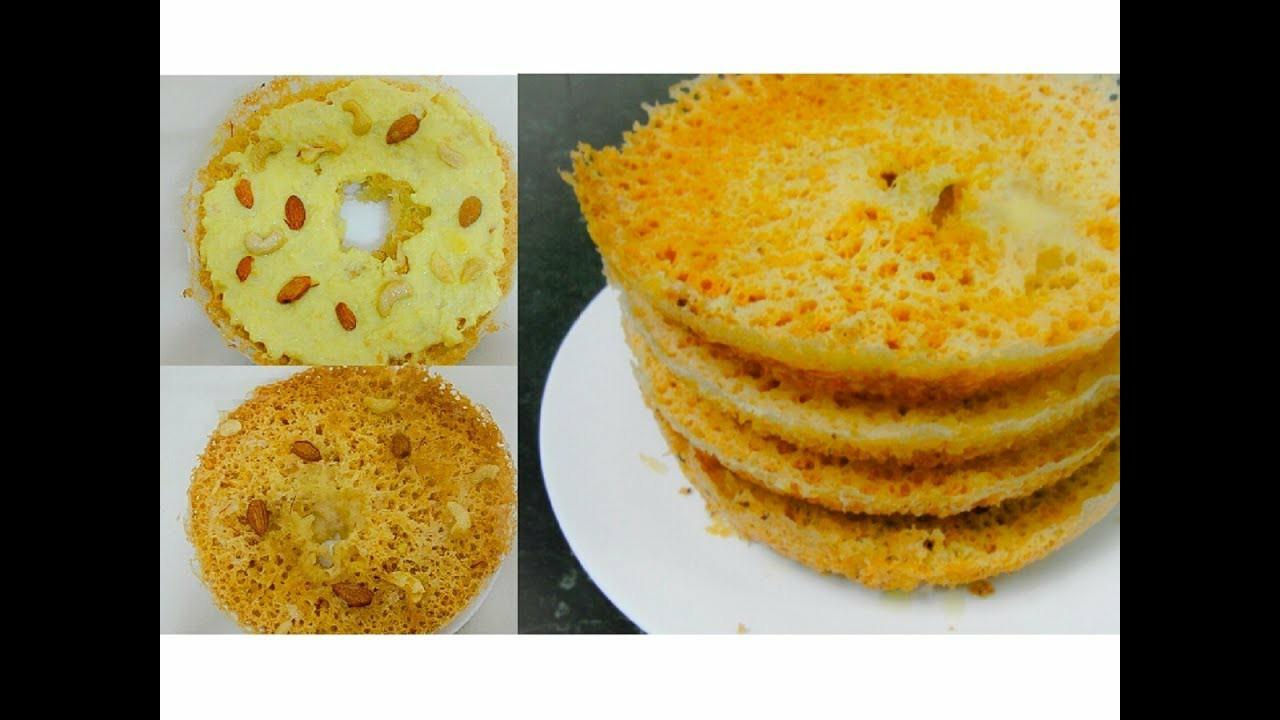Ghevar: (558, 82, 1118, 400), (195, 80, 514, 370), (621, 288, 1122, 468), (187, 362, 512, 632), (632, 377, 1138, 515), (684, 463, 1125, 587)
